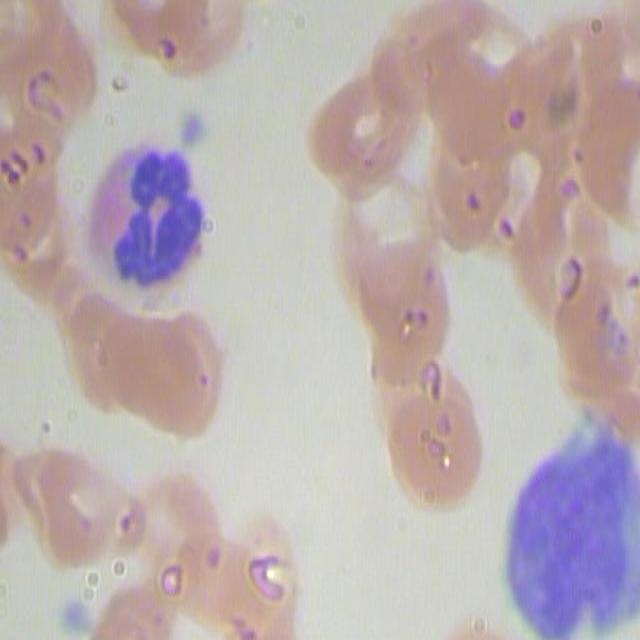RBC: (80, 449, 208, 640), (399, 12, 505, 235), (549, 192, 637, 454), (512, 15, 637, 167), (4, 439, 139, 572), (76, 322, 224, 441), (340, 205, 442, 370), (514, 116, 606, 296), (107, 3, 278, 83), (5, 3, 100, 145), (212, 487, 298, 640), (376, 379, 482, 503), (344, 39, 482, 134), (0, 114, 63, 275), (312, 102, 426, 184), (19, 248, 95, 352)
WBC: (504, 440, 640, 640), (94, 129, 221, 288)
platelets: (171, 105, 214, 152)
